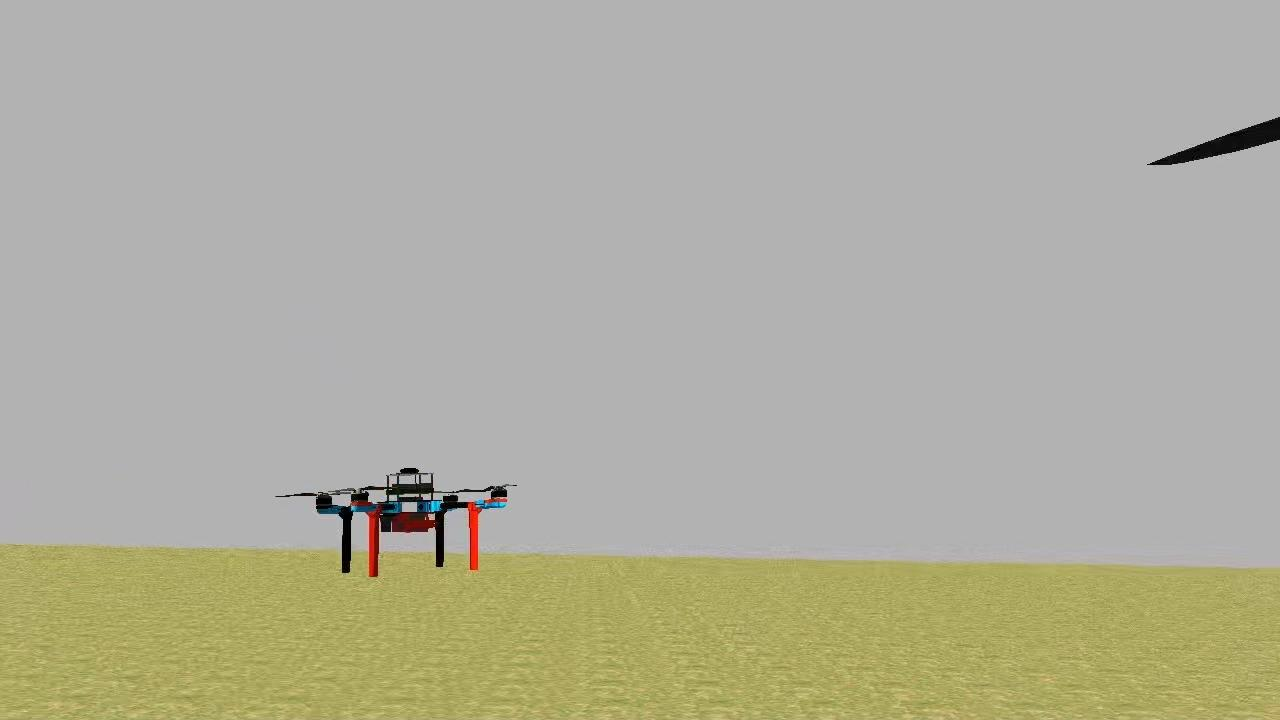UAV: (310, 464, 514, 583)
